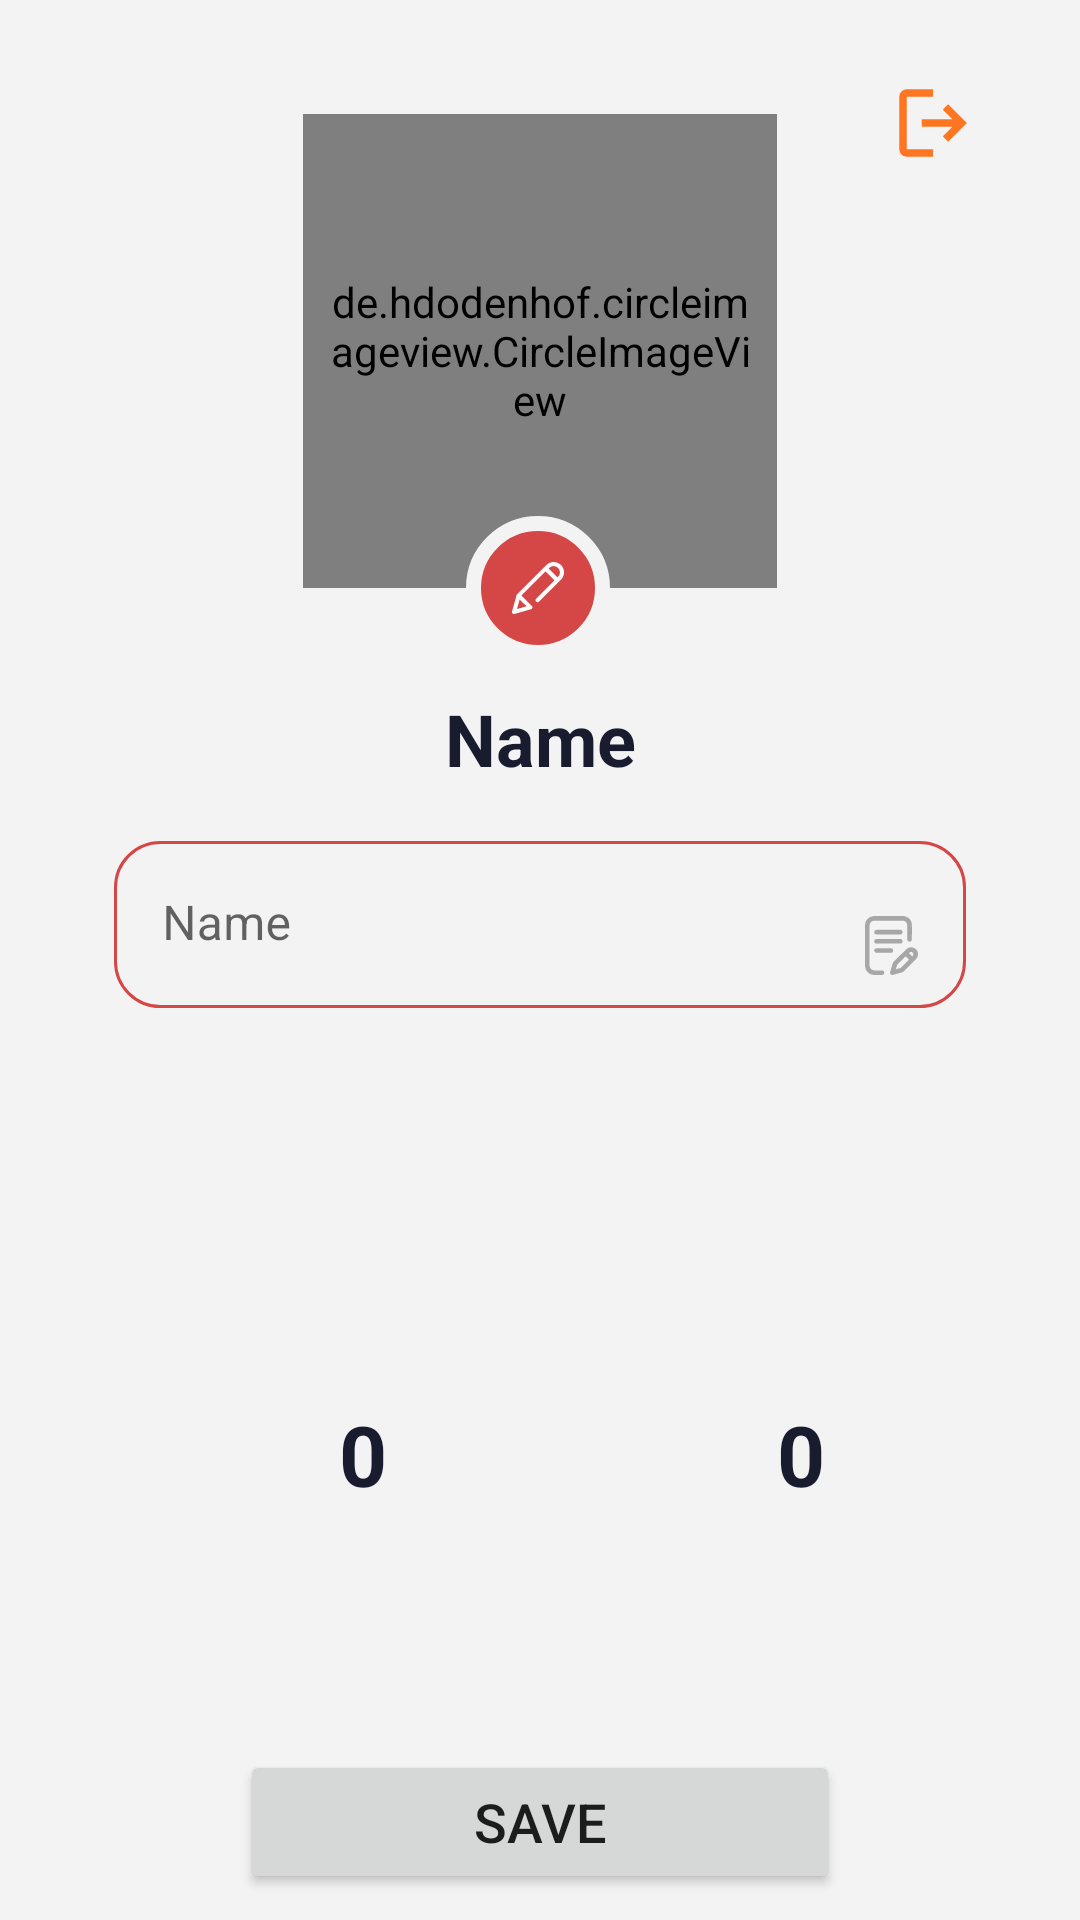

Named icons in this screenshot (1080x1920) and their centers, point (x, y):
editprofileicon: point (538, 588)
